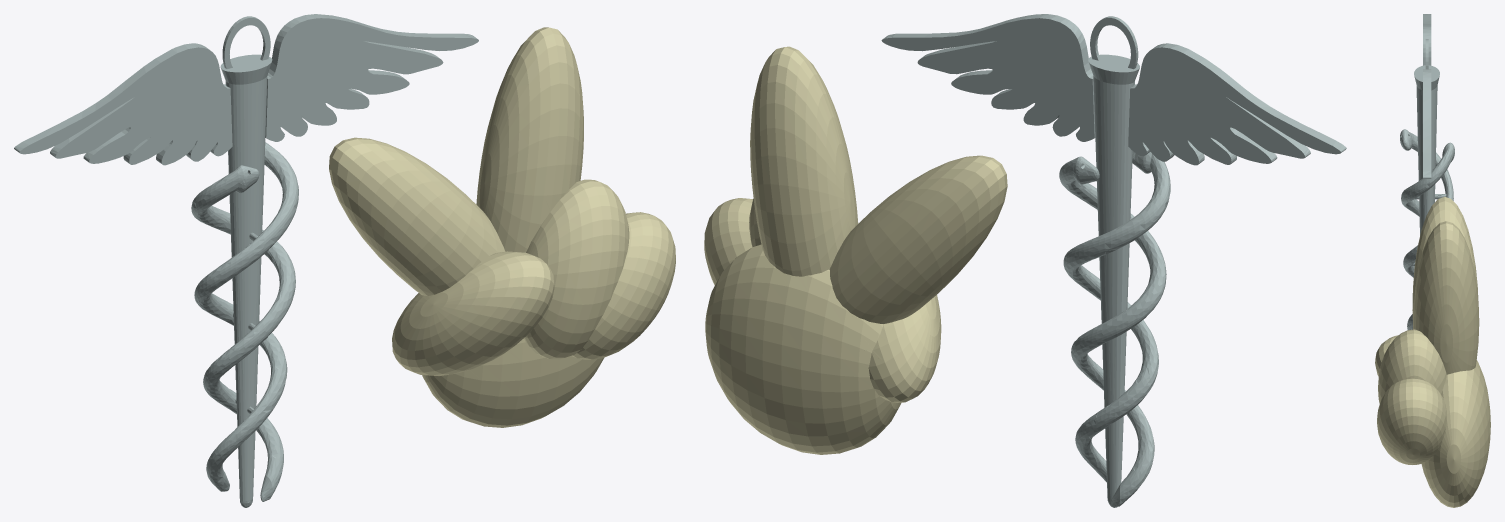
3 renders of one model, left to right at view 1: azimuth 30°, elevation 25°; view 2: azimuth 150°, elevation 25°; view 3: azimuth 270°, elevation 25°, orthographic. The views are drawn at different scales.
Parts seen in each view (by area): view 1: Mesh_Mesh_head_geo.001_lambert2SG.001; view 2: Mesh_Mesh_head_geo.001_lambert2SG.001; view 3: Mesh_Mesh_head_geo.001_lambert2SG.001.
Part boxes in pixels (x1,y1,x2,y2): Mesh_Mesh_head_geo.001_lambert2SG.001: (14,14,675,507); Mesh_Mesh_head_geo.001_lambert2SG.001: (704,14,1346,507); Mesh_Mesh_head_geo.001_lambert2SG.001: (1375,14,1490,507).
Size of the model in its own units: 49.12 by 35.69 by 10.5.
